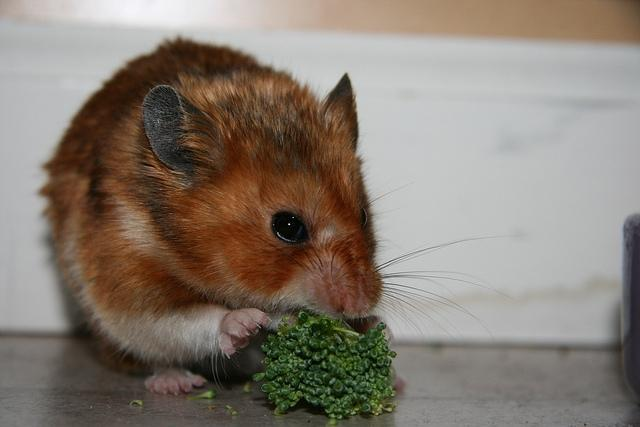broccoli: (252, 310, 398, 427)
